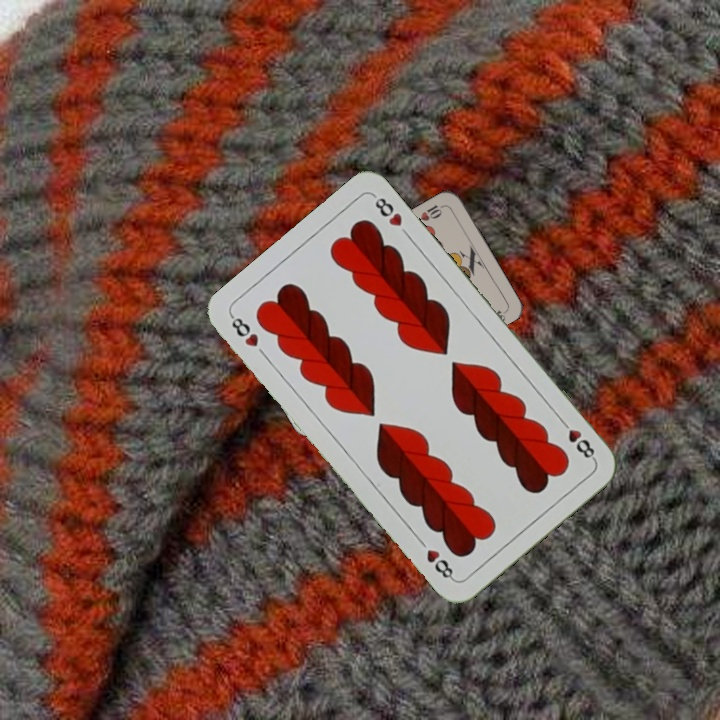H10: (410, 200, 447, 226)
H8: (555, 414, 598, 463), (226, 311, 262, 350)
